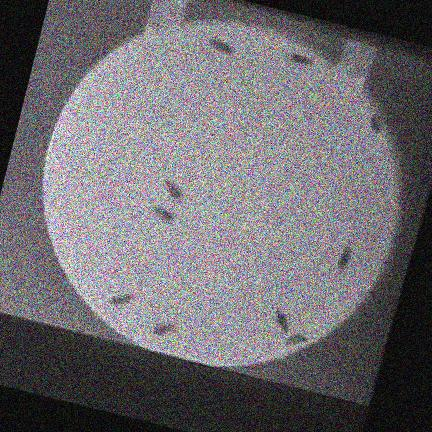fly: (209, 38, 232, 54), (275, 309, 290, 333), (165, 180, 182, 200), (337, 248, 351, 272), (287, 54, 313, 66), (153, 206, 172, 222), (109, 294, 133, 306), (153, 324, 176, 336), (285, 334, 307, 346), (370, 116, 382, 133)
